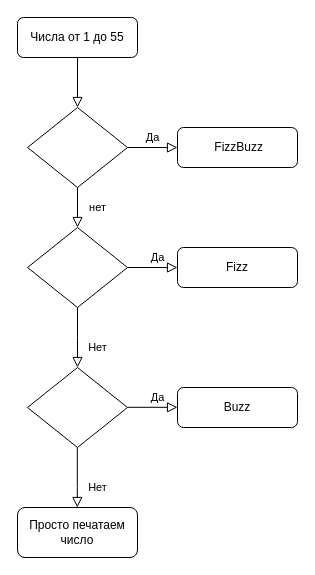
Image size: 315x575. Some labels were removed from this diagram. Each missing label, with the centre of its shape:
"Кратно 5" goes at [77,267].
"Кратно 5 и 7" goes at [77,147].
"Кратно 7" goes at [77,407].
